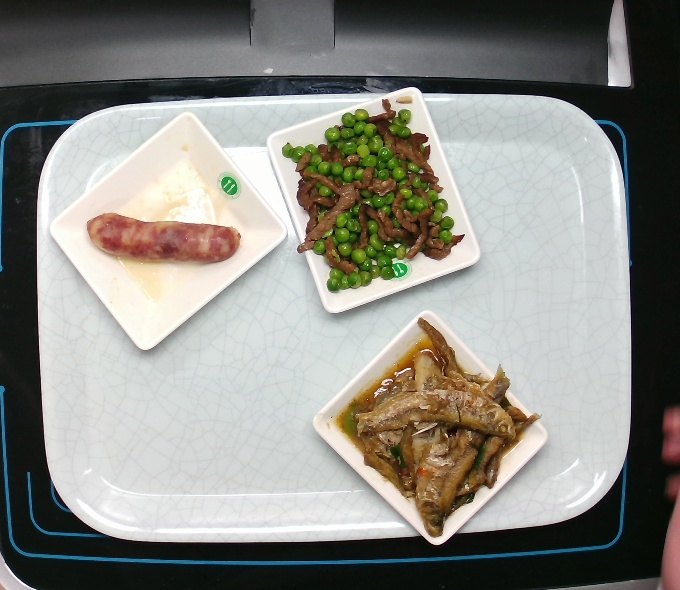wcq-CanDouNiuRou: (277, 98, 466, 294)
wcq-XiangChang: (82, 205, 244, 273)
wcq-XiaoXiYu: (339, 315, 540, 538)
